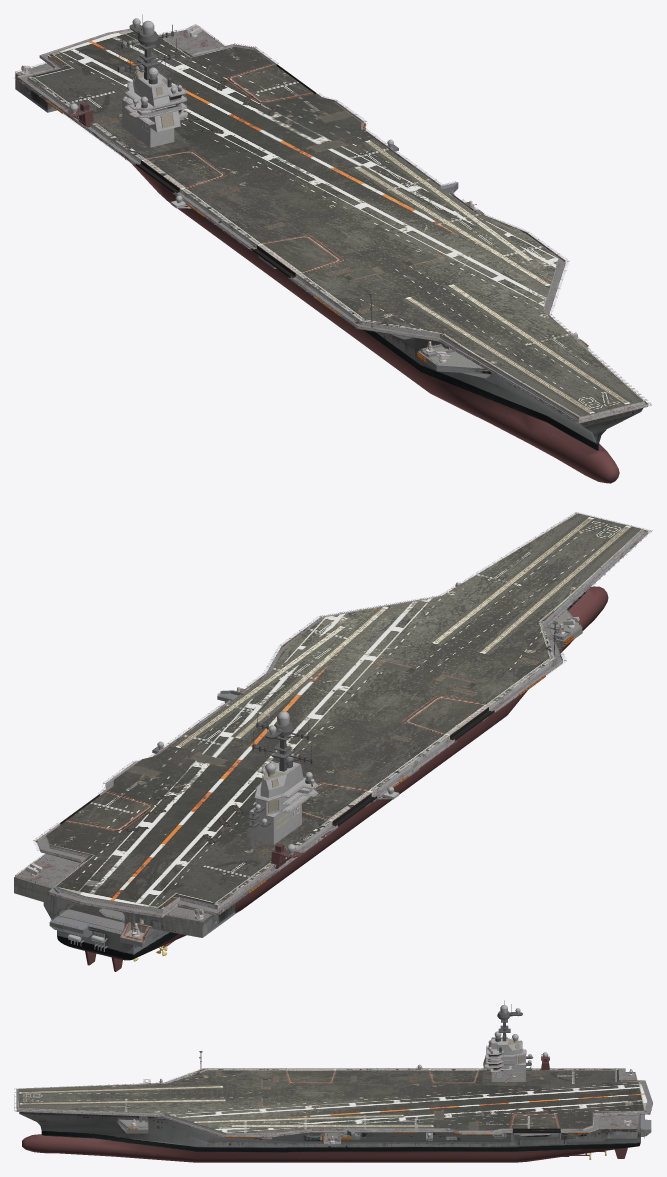
Rendered from gerald_r_ford_aircraft_carrier-maximum-compressed.glb.
The picture shows the model from 3 angles, top to bottom: view 1: azimuth 30°, elevation 25°; view 2: azimuth 150°, elevation 25°; view 3: azimuth 270°, elevation 25°; orthographic projection. The views are drawn at different scales.
Visible parts, largest first — view 1: ship_deck, ship_lower, ship_mid, ship_bridge, hull_handrail132, elevator_right_back, elevator_right_front, elevator_left_back, pCube169; view 2: ship_deck, ship_mid, ship_lower, ship_bridge, hull_handrail132, elevator_right_front, elevator_right_back, elevator_left_back, pCube169; view 3: ship_deck, ship_lower, ship_mid, ship_bridge, hull_handrail132, elevator_left_back, elevator_right_back, elevator_right_front, side_tubes, pCube169.
Part boxes in pixels (x1,y1,x2,y2): ship_deck: [16, 28, 648, 423]; ship_lower: [130, 162, 619, 483]; ship_mid: [15, 30, 643, 444]; ship_bridge: [122, 67, 187, 147]; hull_handrail132: [14, 25, 651, 423]; elevator_right_back: [135, 151, 220, 193]; elevator_right_front: [251, 236, 336, 277]; elevator_left_back: [232, 63, 315, 99]; pCube169: [117, 14, 177, 80]; ship_deck: [37, 513, 648, 918]; ship_mid: [14, 609, 582, 953]; ship_lower: [57, 586, 608, 960]; ship_bridge: [249, 762, 318, 844]; hull_handrail132: [15, 512, 652, 933]; elevator_right_front: [408, 698, 494, 740]; elevator_right_back: [302, 784, 377, 826]; elevator_left_back: [60, 793, 143, 830]; pCube169: [252, 711, 313, 771]; ship_deck: [16, 1068, 652, 1137]; ship_lower: [22, 1131, 640, 1162]; ship_mid: [19, 1073, 651, 1146]; ship_bridge: [483, 1038, 526, 1081]; hull_handrail132: [14, 1037, 651, 1144]; elevator_left_back: [512, 1115, 560, 1132]; elevator_right_back: [431, 1068, 478, 1082]; elevator_right_front: [288, 1068, 335, 1081]; side_tubes: [18, 1101, 647, 1134]; pCube169: [497, 1000, 522, 1041].
Size of the model in its own units: 3.25 by 2.64 by 12.09.
Materials: 11 (10 with a texture image).
